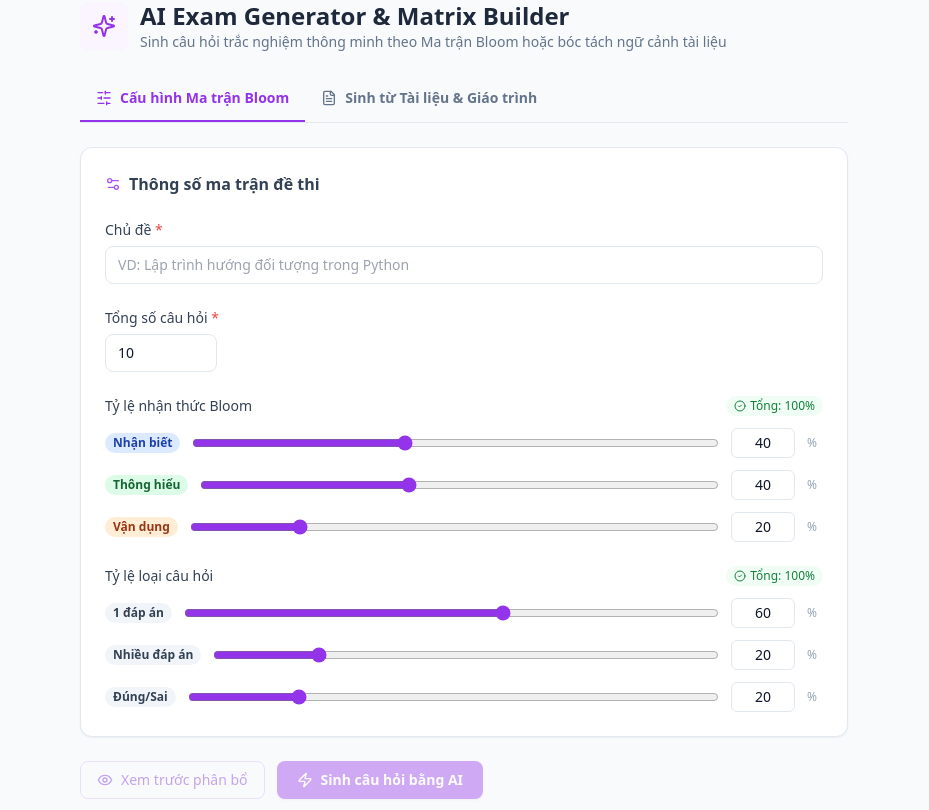
AiGenPage — Document Context Tab (Issue #33) › generates questions from document context and displays chunk metrics in review
Click the button "Sinh từ Tài liệu & Giáo trình" at (429, 99), box [305,76,553,122]
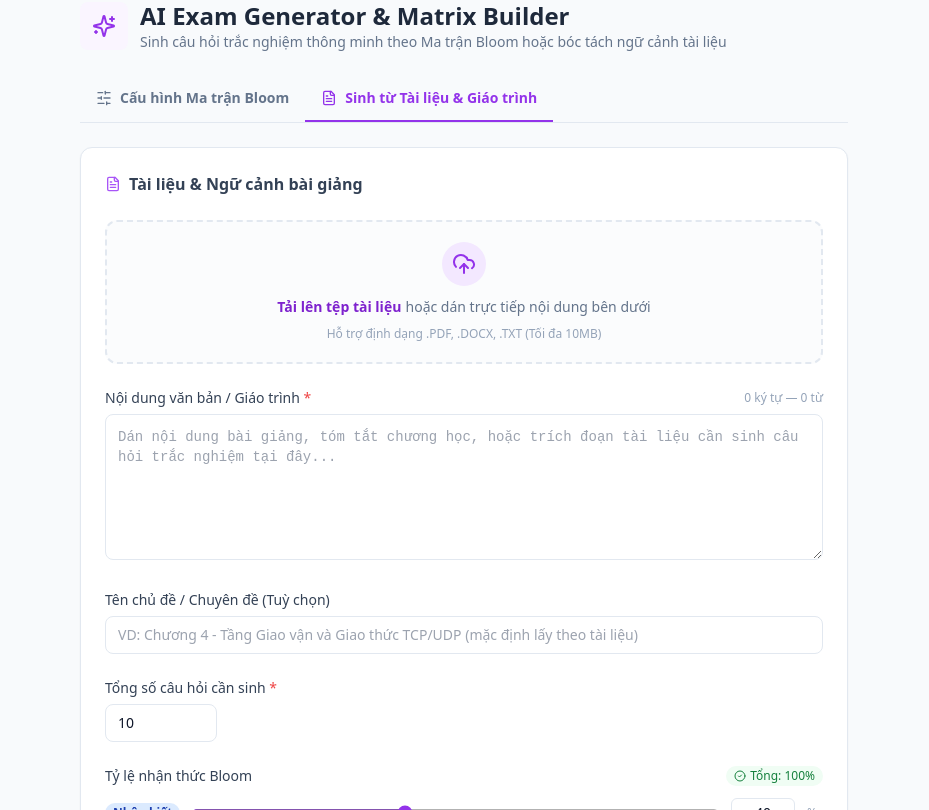
Replace the text in the text box with placeholder "Dán nội dung bài giảng" with "Chương 4: Tầng giao vận và các giao thức TCP, UDP trong mô hình OSI và Internet." at (464, 487), box [105,414,823,560]
(page scrolled)
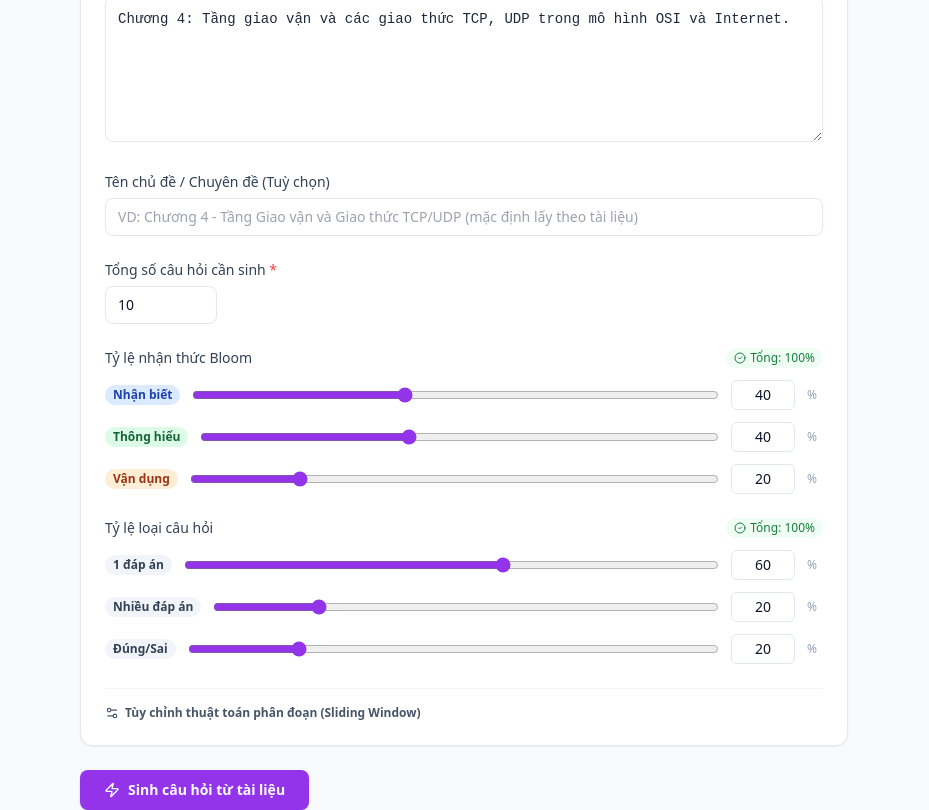
Result: the button "Sinh câu hỏi từ tài liệu" is enabled
Click the button "Sinh câu hỏi từ tài liệu" at (195, 790), box [80,770,309,809]
(page scrolled)
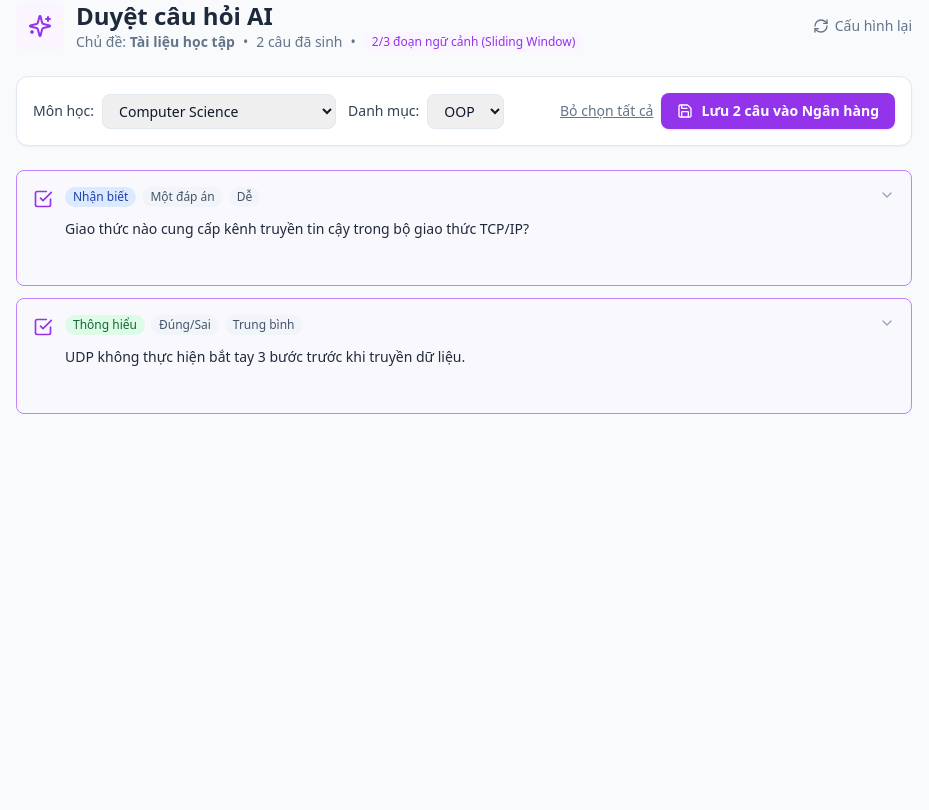
Result: the heading "Duyệt câu hỏi AI" is shown at [76,0,273,32]
Result: the text box "Giao thức nào cung cấp kênh truyền tin cậy" below "Nhận biết" is shown at [61,215,863,263]
Result: the text "2/3 đoạn ngữ cảnh (Sliding Window)" is shown at [364,32,583,52]
